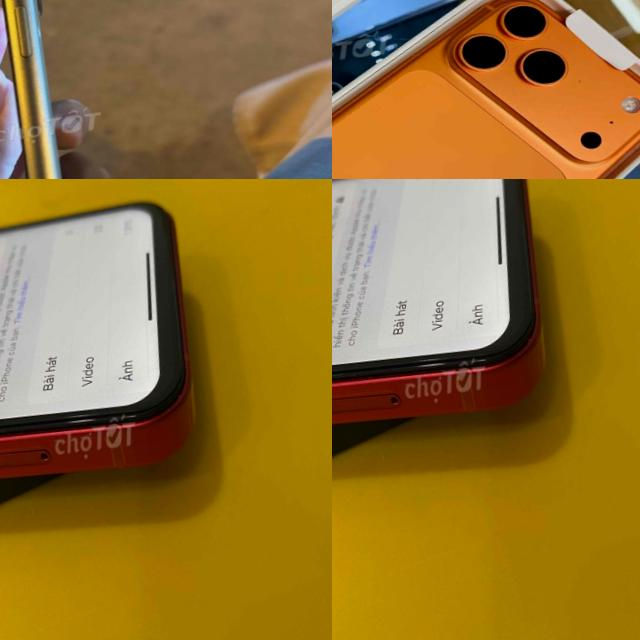gen_11: (2, 0, 63, 179)
gen_12_13: (0, 189, 211, 517), (332, 179, 561, 461)
gen_17: (332, 0, 640, 179)
